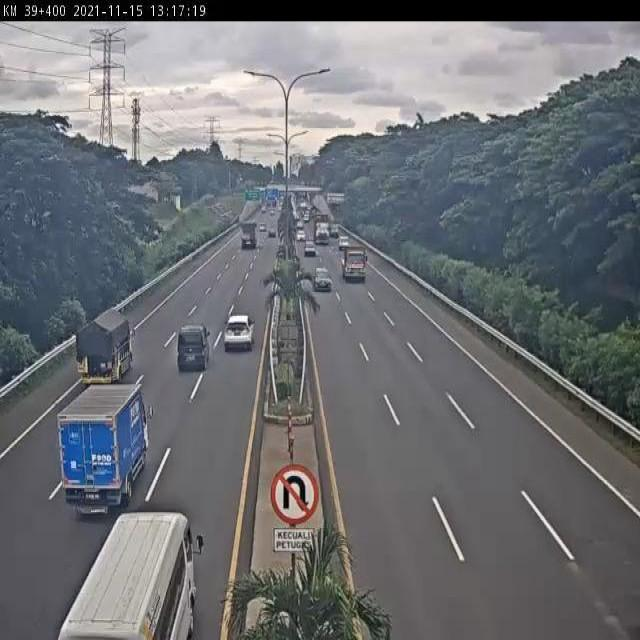big truck: (339, 240, 371, 284)
bus-s-: (58, 512, 210, 640)
car: (175, 320, 213, 375), (222, 311, 257, 352), (312, 263, 333, 293)
truck-m-: (57, 383, 150, 513), (75, 307, 133, 393)
